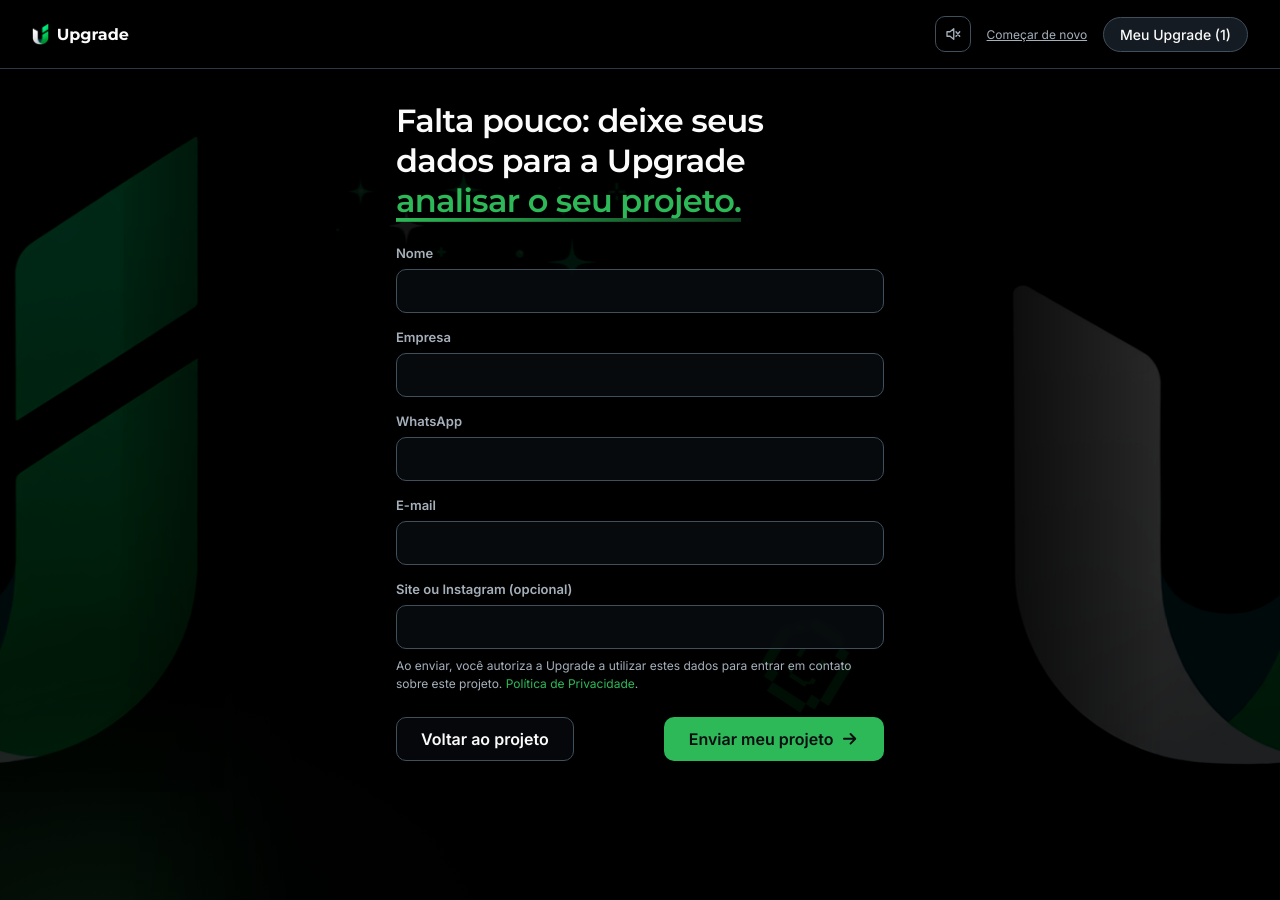
it: LeadForm e tela de sucesso — comunicação (copy) › com prazo e WhatsApp configurados, ambos aparecem (e só então)
This screenshot has width=1280, height=900.
Type "João Silva" into the field labelled "Nome" at (640,291), box [396,269,884,313]
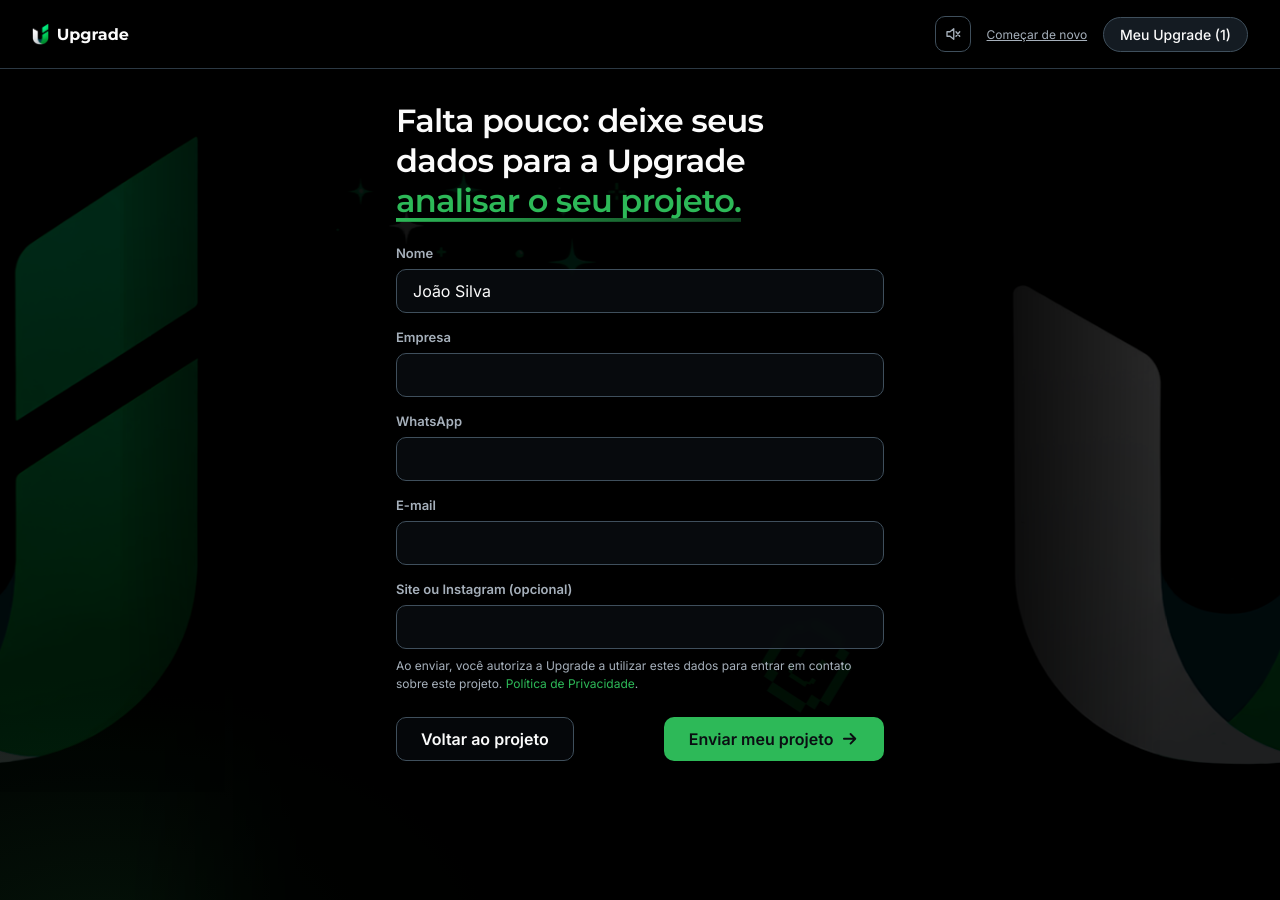
Type "ABC Móveis" into the field labelled "Empresa" at (640,375), box [396,353,884,397]
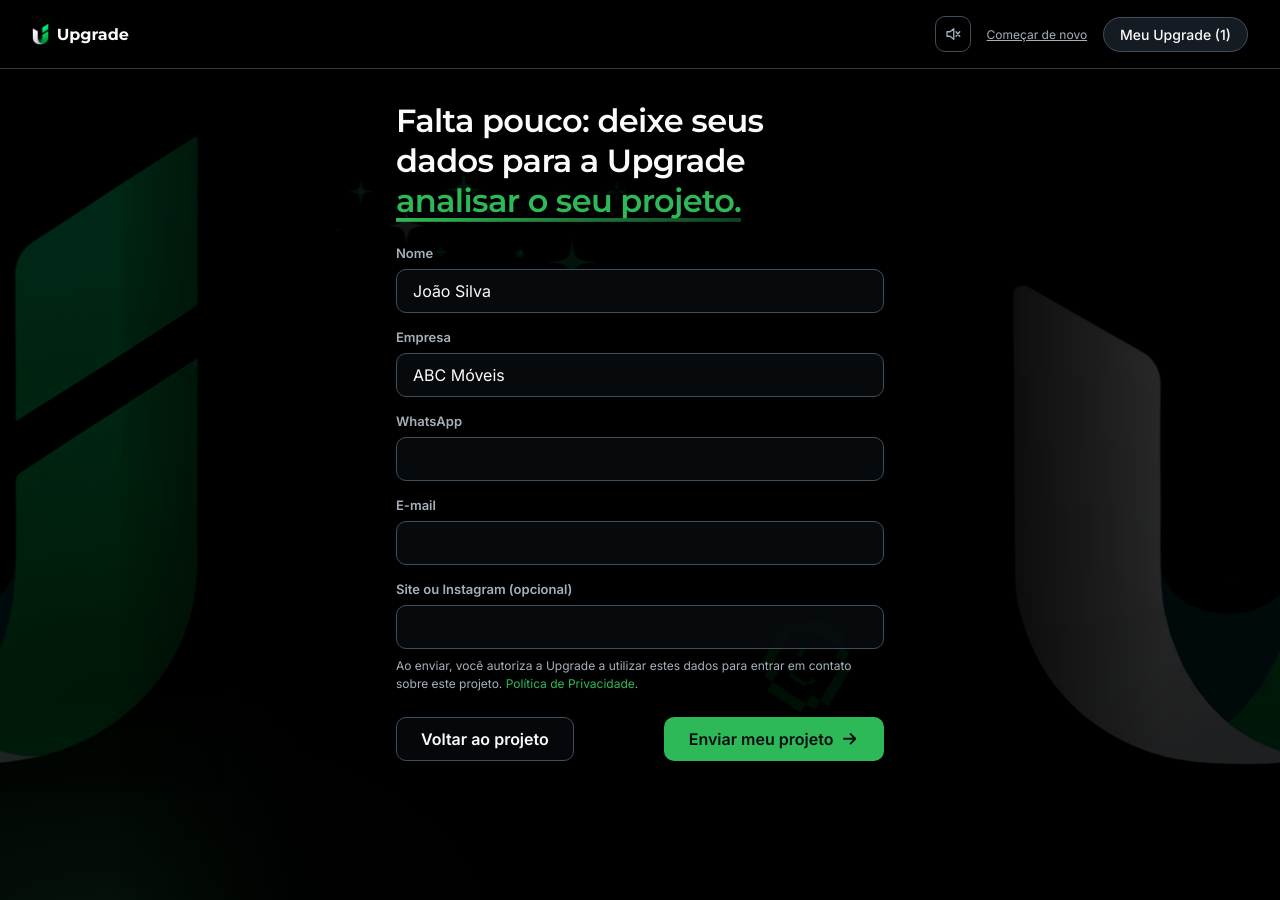
Type "(13) 99999-9999" into the field labelled "WhatsApp" at (640,459), box [396,437,884,481]
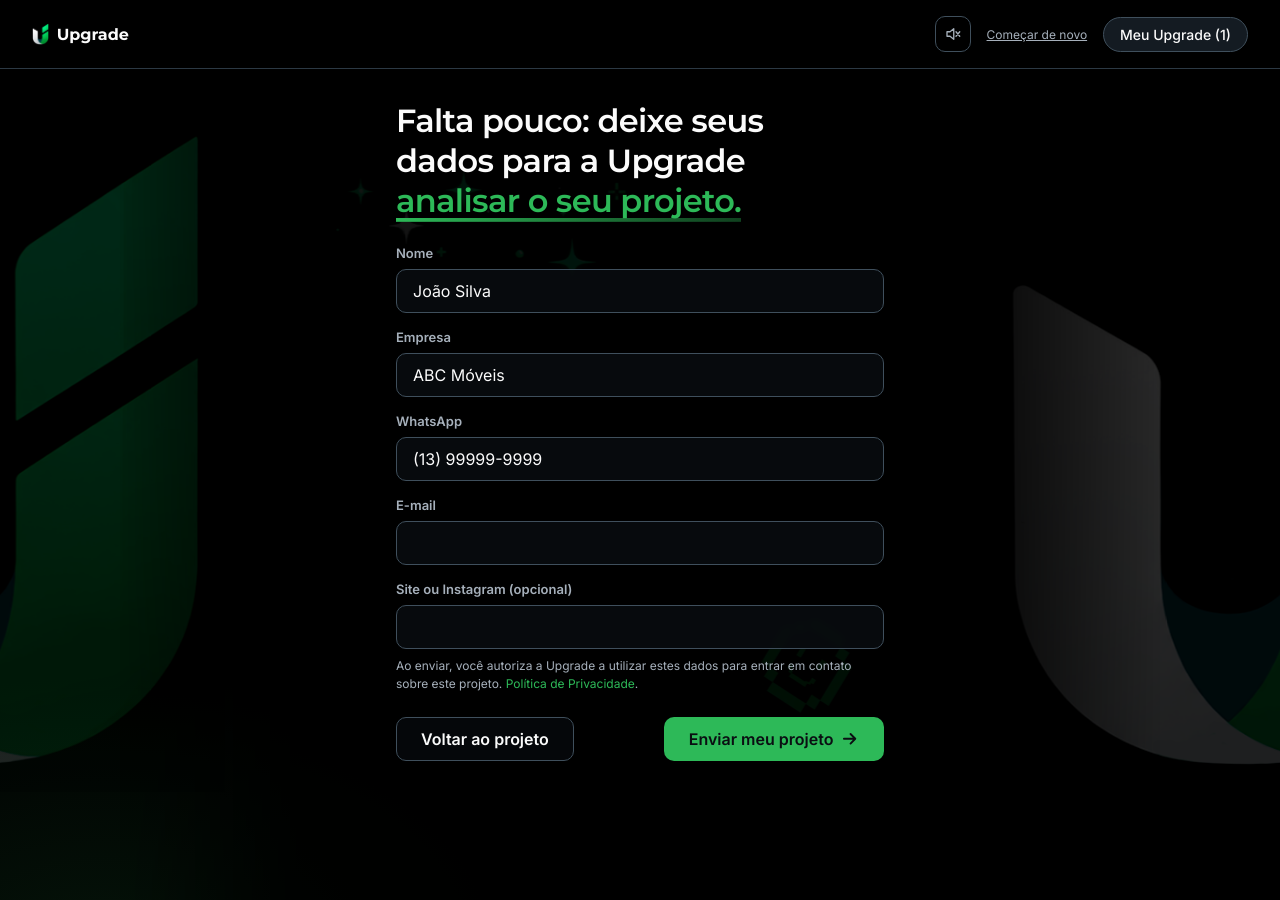
Type "joao@teste.com" into the field labelled "E-mail" at (640,543), box [396,521,884,565]
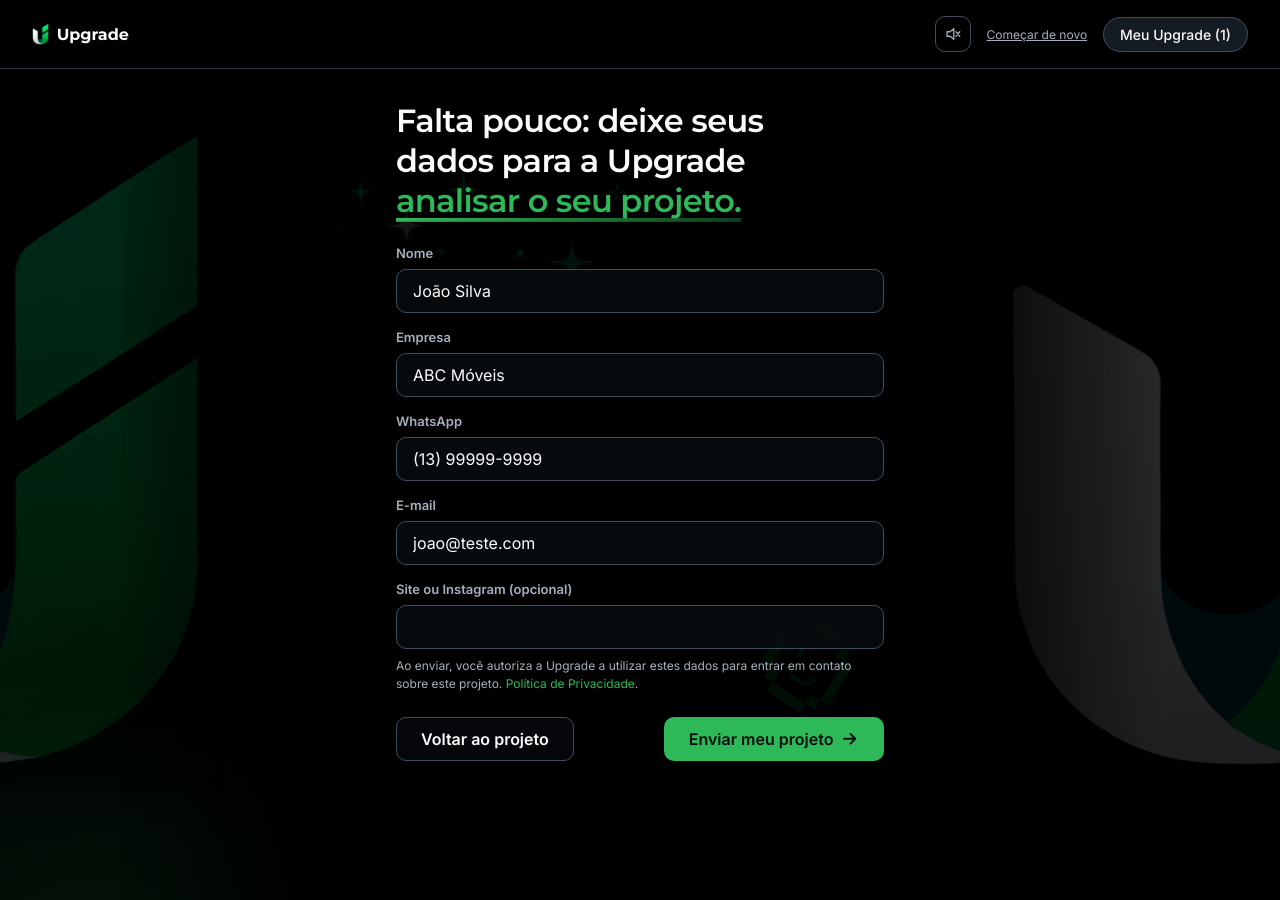
Click the button "Enviar meu projeto" at (774,739), box [664,717,884,761]
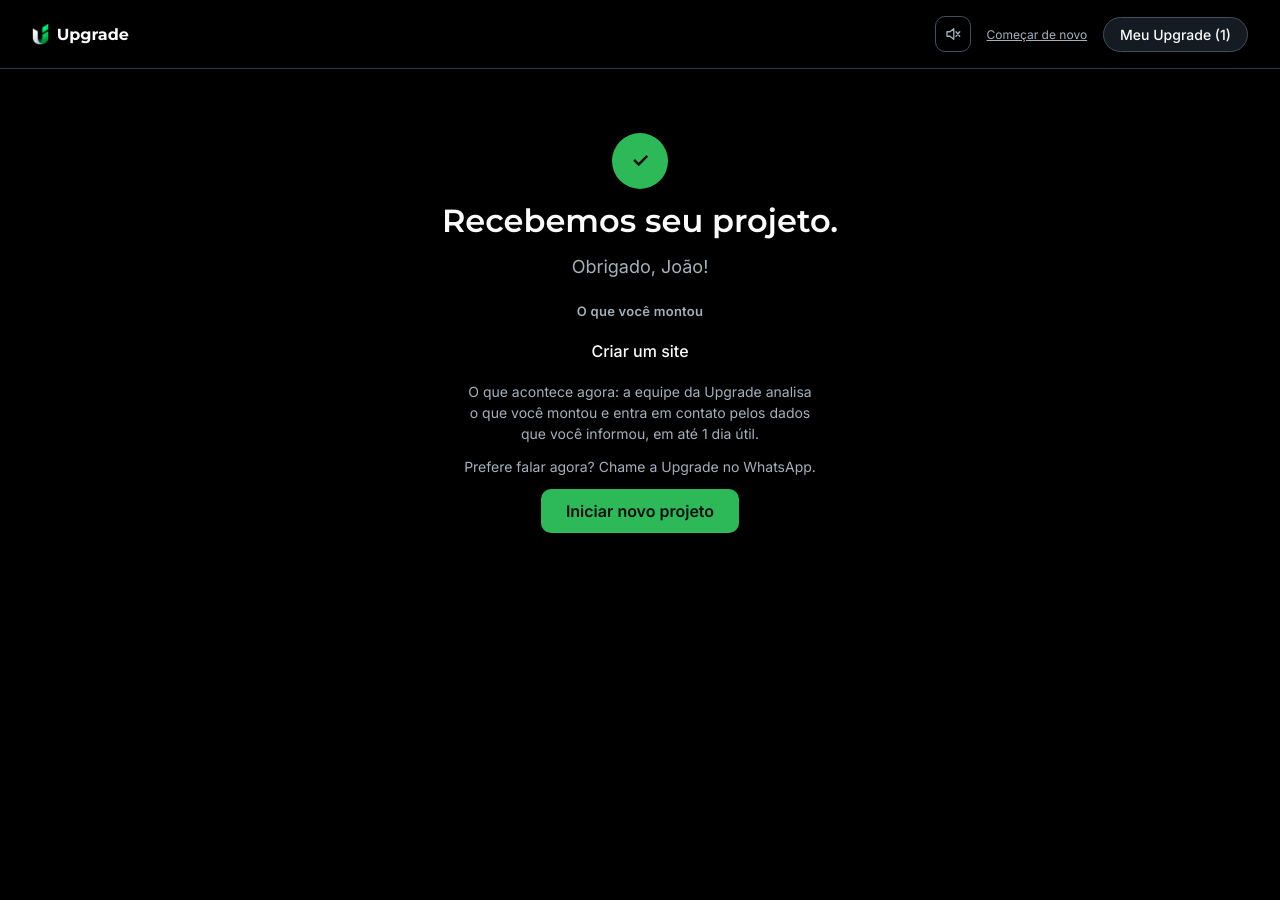
expect the heading "Recebemos seu projeto." is shown: met, box [442,201,838,241]
expect the text "pelos dados que você informou, em até 1 dia útil." is shown: met, box [463,381,817,444]
